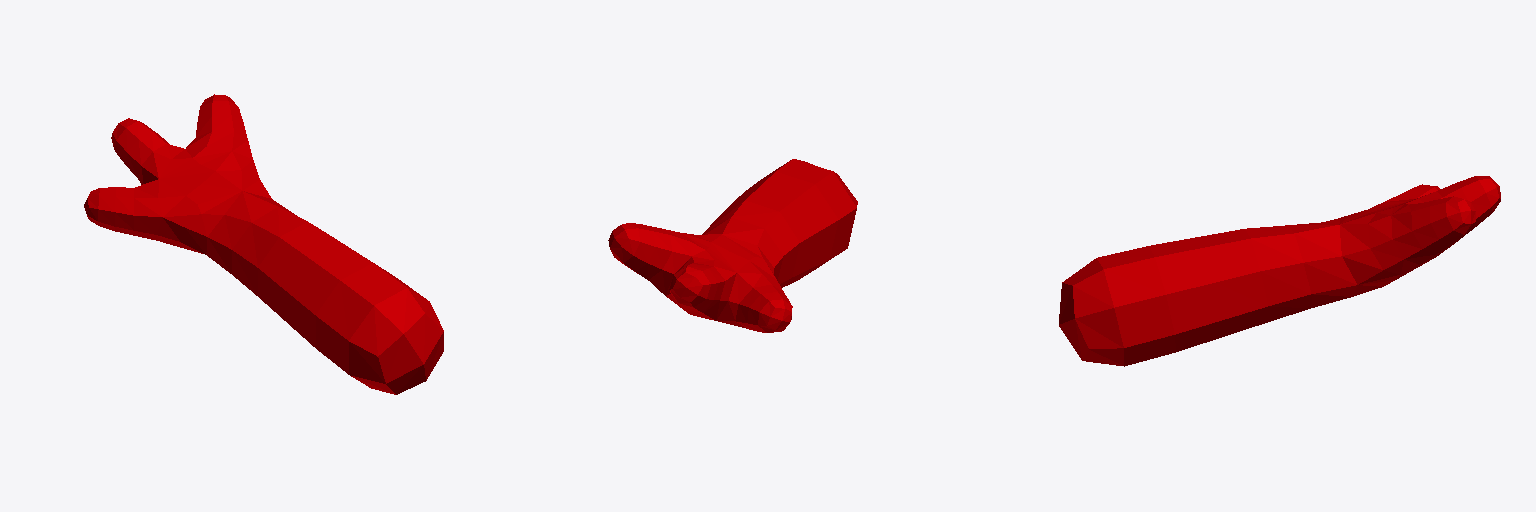
File: player_hand2.obj
The picture shows the model from 3 angles: view 1: azimuth 30°, elevation 25°; view 2: azimuth 150°, elevation 25°; view 3: azimuth 270°, elevation 25°; orthographic projection.
Parts seen in each view (by area): view 1: Cube.001; view 2: Cube.001; view 3: Cube.001.
Part boxes in pixels (left/top/right/bottom): Cube.001: left=84, top=94, right=443, bottom=394; Cube.001: left=608, top=159, right=857, bottom=332; Cube.001: left=1059, top=176, right=1500, bottom=366.
Size of the model in its own units: 1.46 by 1.19 by 2.92.